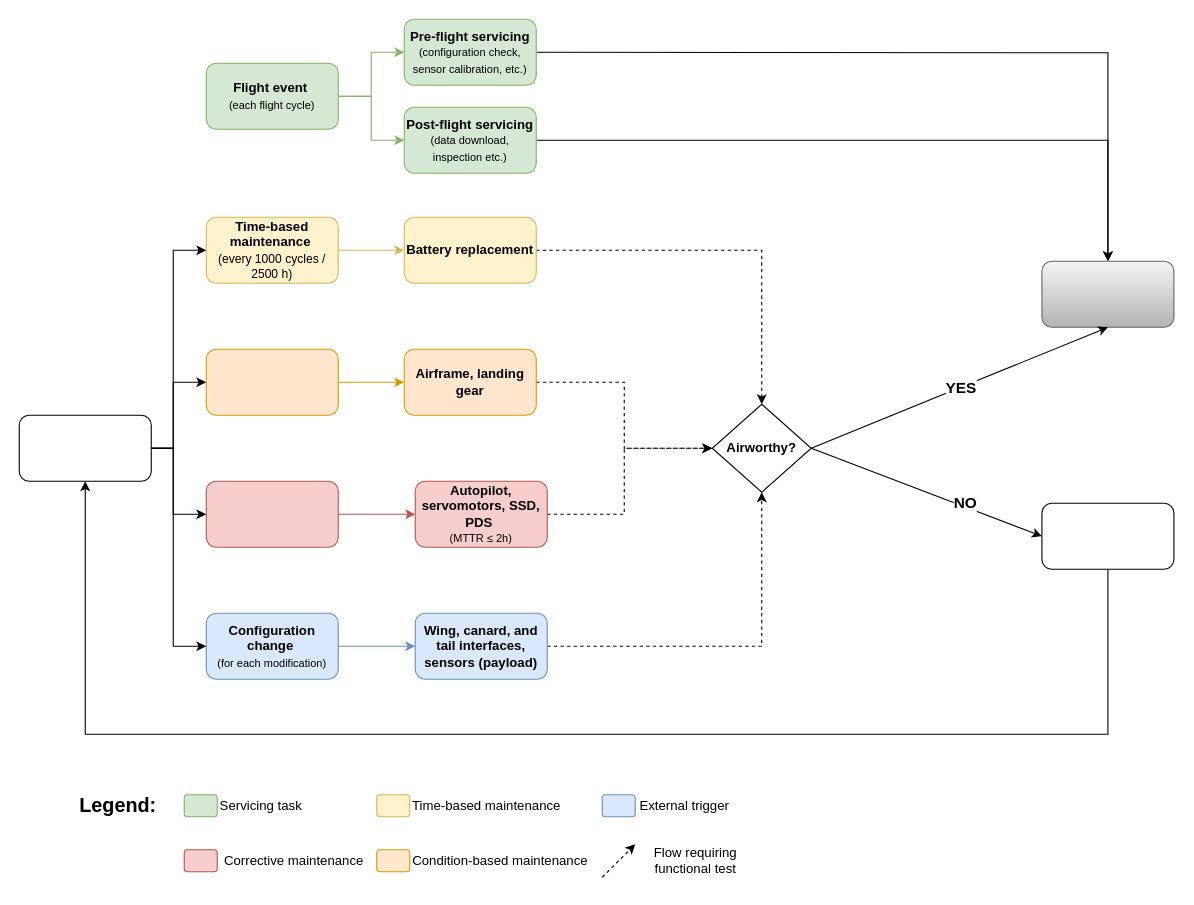
Image size: 1194x905. Some labels were removed from this diagram. The centre of each missing label's shape, as x and y in pixels:
Condition-based maintenance (Non-destructive testing): pixel 271 381
Corrective maintenance (after failure): pixel 271 513
Re-do maintenance: pixel 1107 535
Return to operation: pixel 1107 293
Select maintenance strategy: pixel 84 447
